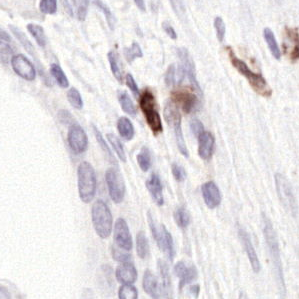Lymphocyte: (137, 90, 164, 134)
